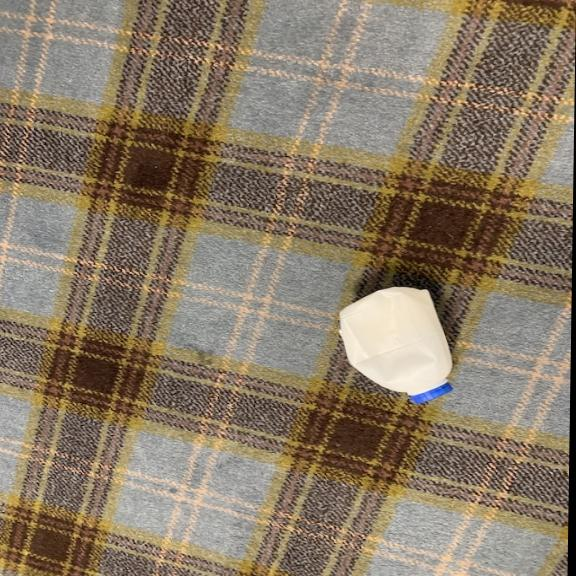Plastik: (331, 285, 463, 403)
